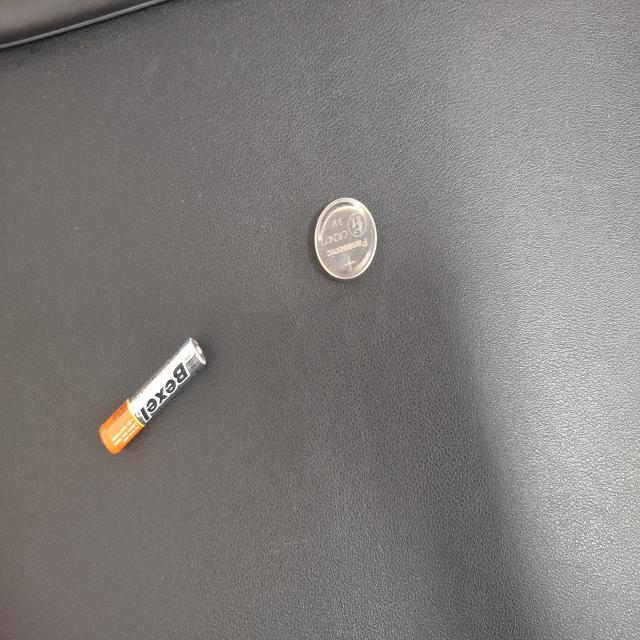AAA: (251, 576, 338, 640)
COIN: (146, 349, 212, 436)
